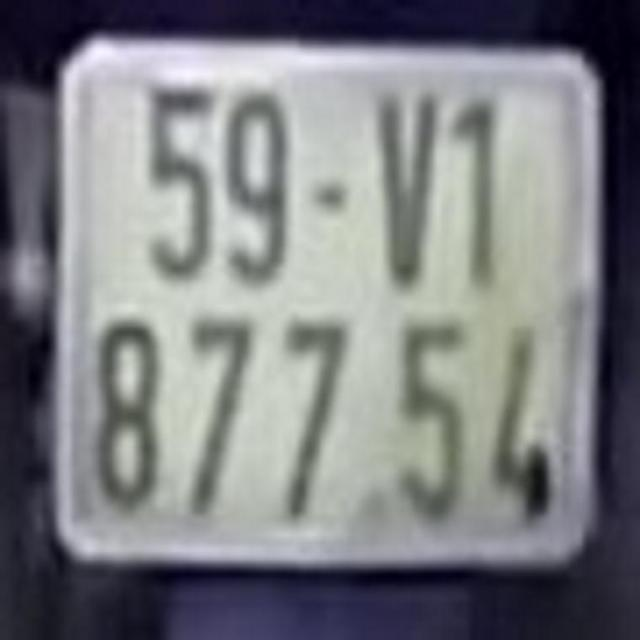1: (442, 74, 519, 293)
4: (491, 302, 568, 540)
5: (384, 291, 474, 538), (130, 74, 220, 293)
7: (276, 286, 355, 538), (182, 297, 262, 521)
8: (82, 300, 170, 510)
9: (220, 75, 296, 296)
V: (363, 74, 441, 289)
